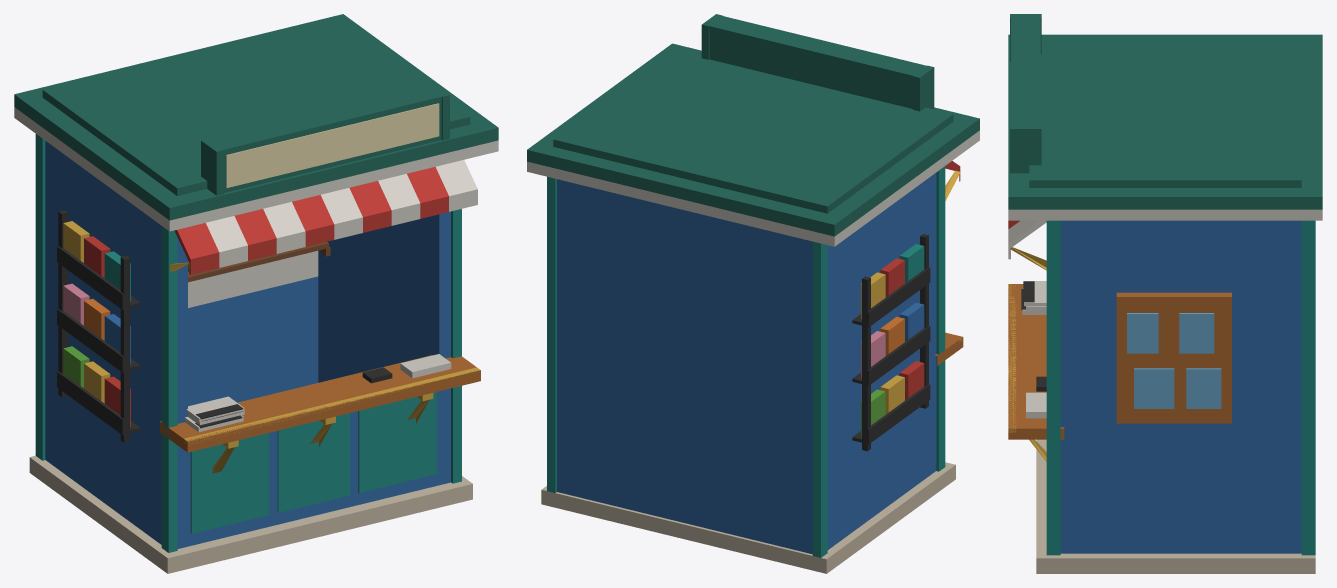
The model's file is bufe.glb.
3 views of the same model, side by side, from view 1: azimuth 30°, elevation 25°; view 2: azimuth 150°, elevation 25°; view 3: azimuth 270°, elevation 25° (orthographic). The views are drawn at different scales.
Visible parts, largest first — view 1: bufe; view 2: bufe; view 3: bufe.
Boxes of the visible parts, x1,y1,x2,y2 form: bufe: [14, 14, 498, 573]; bufe: [527, 14, 979, 573]; bufe: [1008, 14, 1322, 573].
Bounding box in the file's own units: 2.2 × 2.7 × 1.8.
